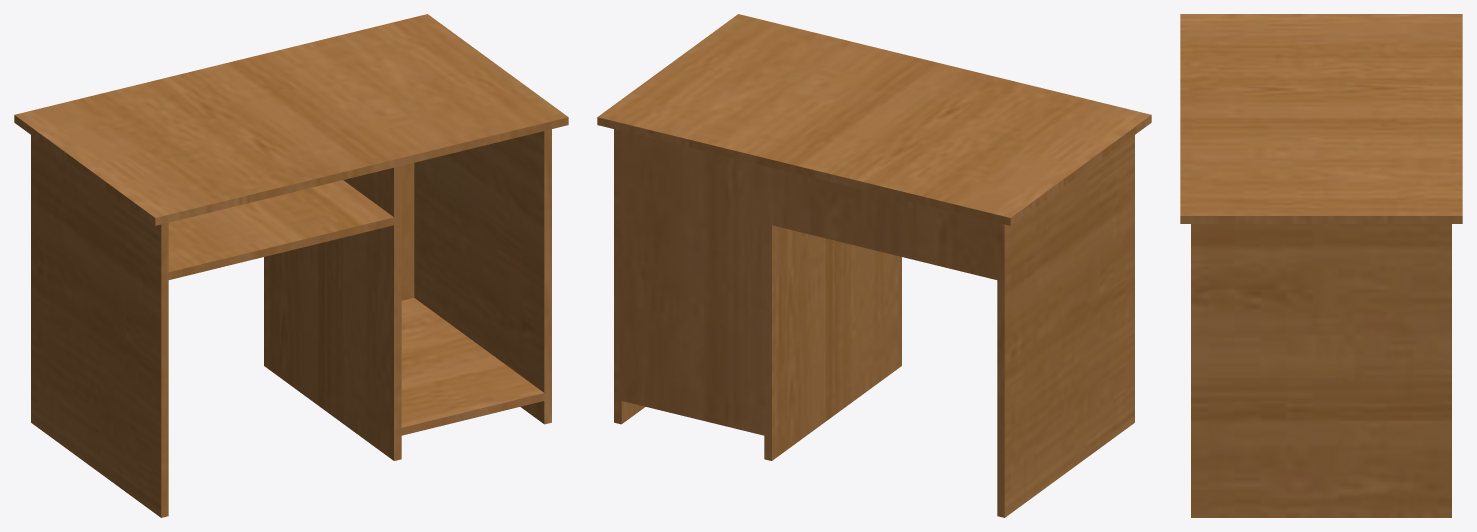
The model's file is table_000.obj.
3 renders of one model, left to right at view 1: azimuth 30°, elevation 25°; view 2: azimuth 150°, elevation 25°; view 3: azimuth 270°, elevation 25°, orthographic.
Parts seen in each view (by area): view 1: Cube; view 2: Cube; view 3: Cube.
Boxes of the visible parts, x1,y1,x2,y2 form: Cube: (14,14,568,517); Cube: (597,14,1151,517); Cube: (1180,14,1462,517).
Bounding box in the file's own units: 1.1 × 0.78 × 0.65.
